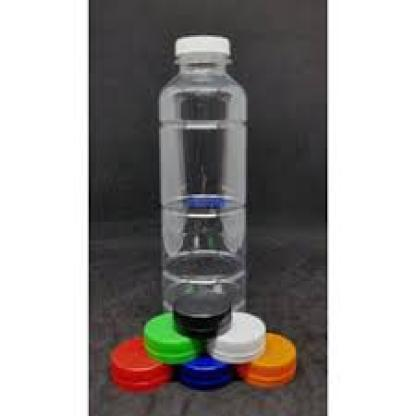Glass Bottle: (155, 30, 253, 318)
